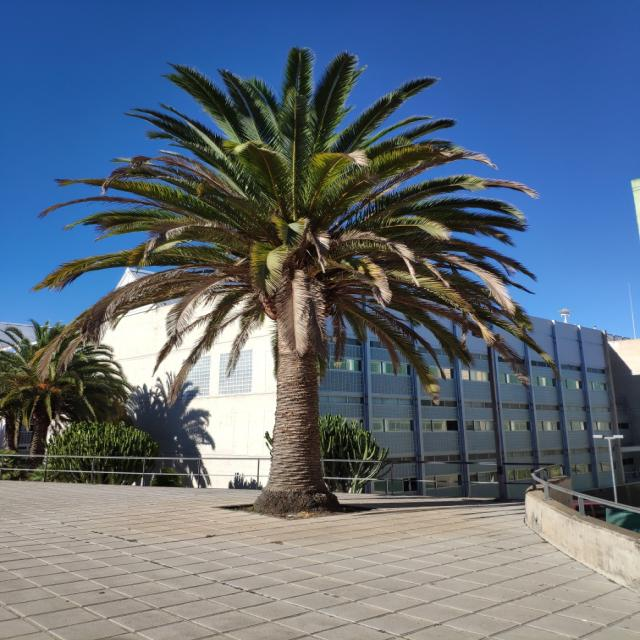Palm-Trees: (90, 44, 506, 510)
